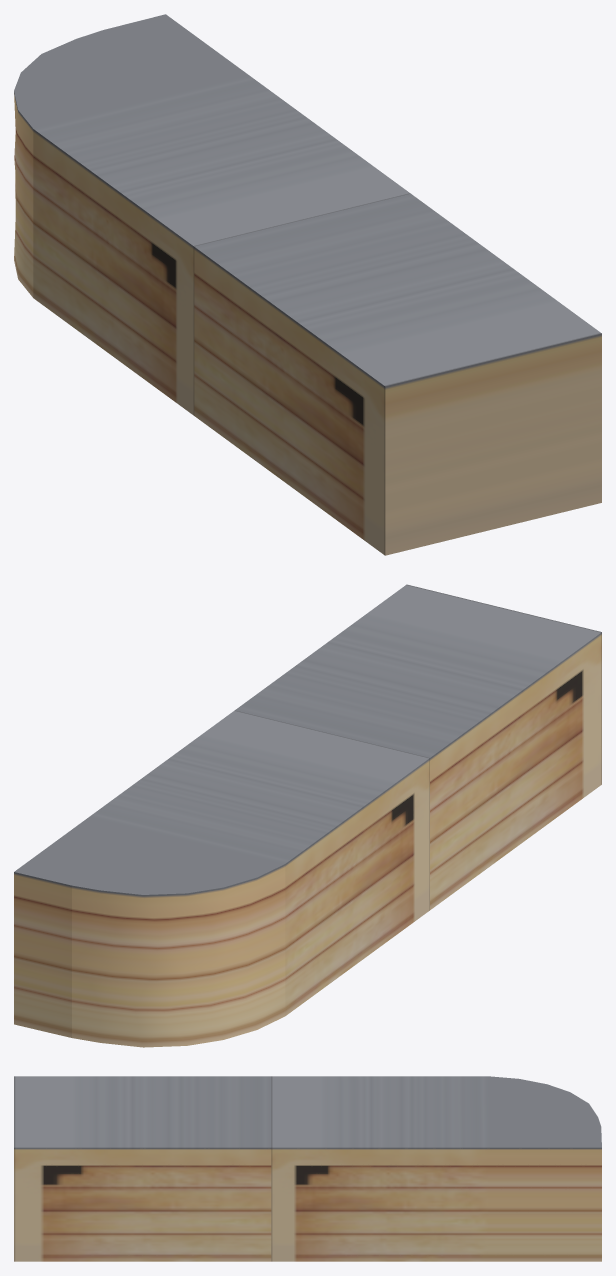
The model's file is waterTank.fbx.
3 renders of one model, top to bottom at view 1: azimuth 30°, elevation 25°; view 2: azimuth 150°, elevation 25°; view 3: azimuth 270°, elevation 25°, orthographic. The views are drawn at different scales.
Parts seen in each view (by area): view 1: water1; view 2: water1; view 3: water1.
Boxes of the visible parts, bbox=[...] form: water1: bbox=[14, 14, 601, 555]; water1: bbox=[14, 584, 601, 1047]; water1: bbox=[14, 1076, 601, 1261].
Size of the model in its own units: 26.57 by 19.83 by 92.57.
